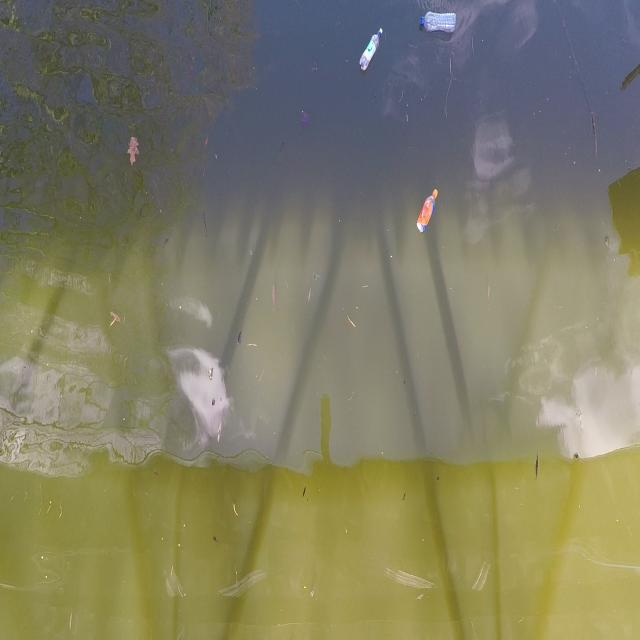Bouteille plastique: (358, 20, 386, 78), (416, 185, 444, 240), (416, 8, 462, 37)
